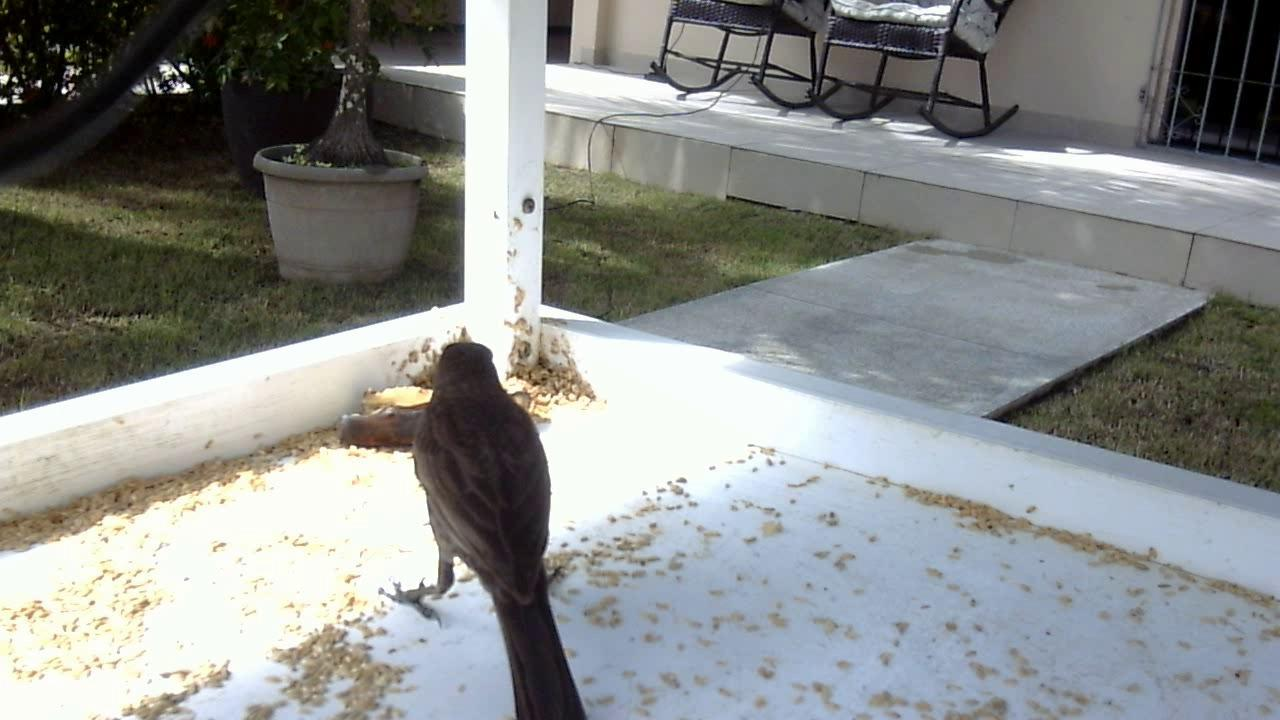chupim: (327, 334, 603, 708)
